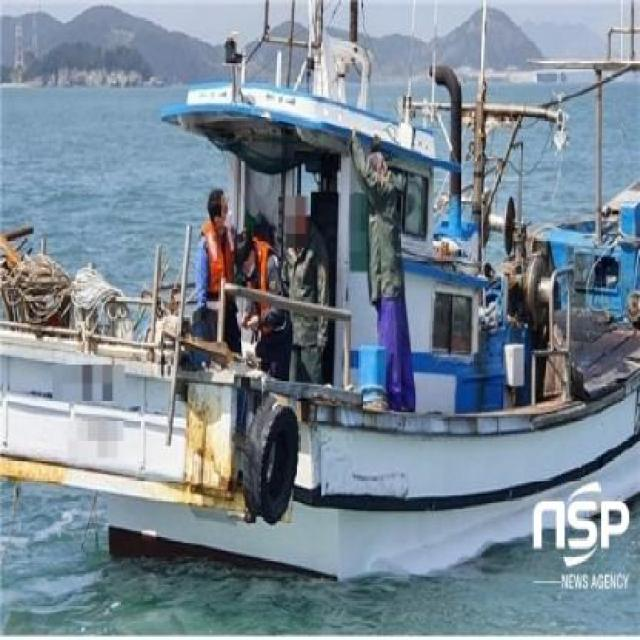fish-b: (1, 1, 639, 590)
